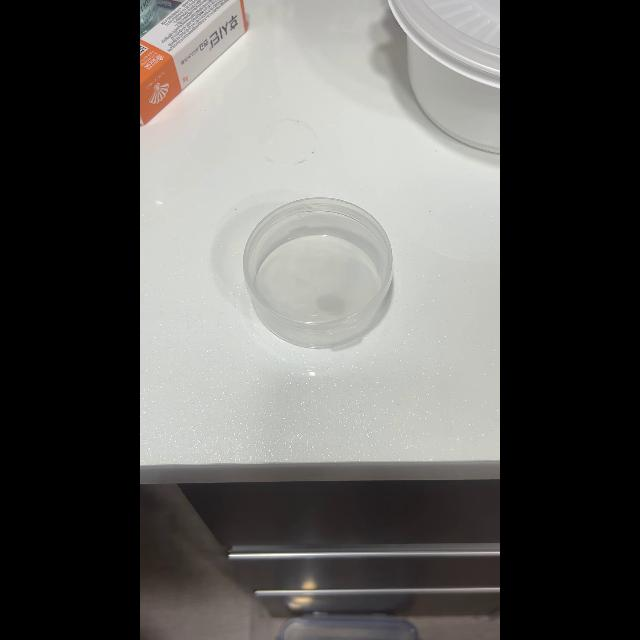clean: (245, 198, 397, 348)
